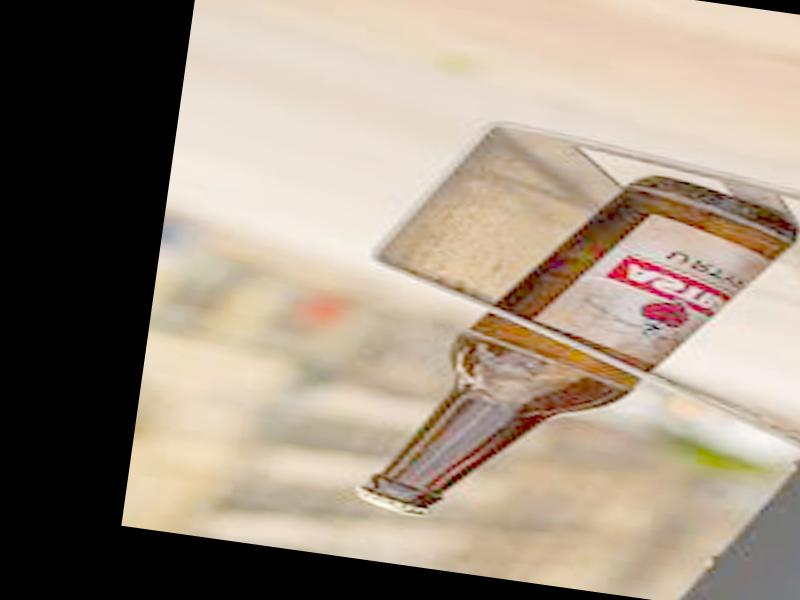Beer: (349, 139, 800, 565)
